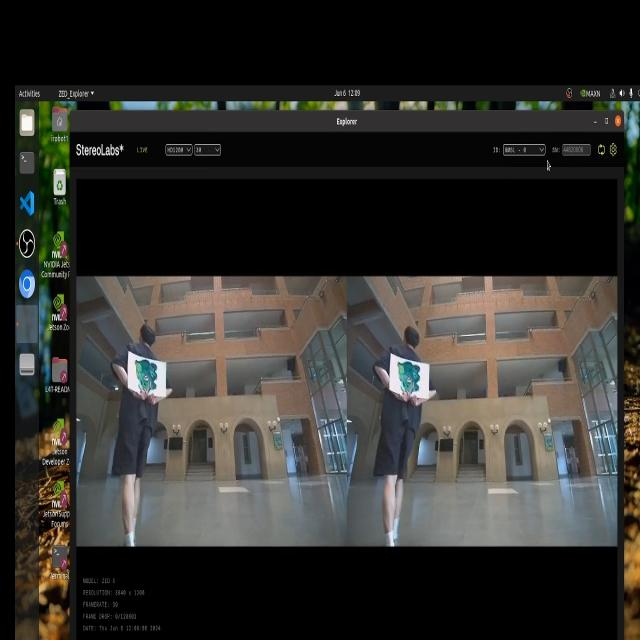green: (391, 354, 426, 400), (129, 353, 158, 399)
